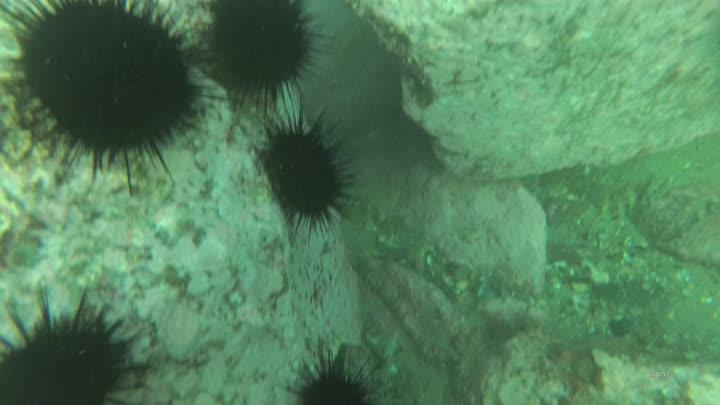urchin: (1, 1, 215, 181), (1, 285, 137, 405), (201, 2, 327, 110), (256, 107, 352, 235), (286, 355, 374, 405)
